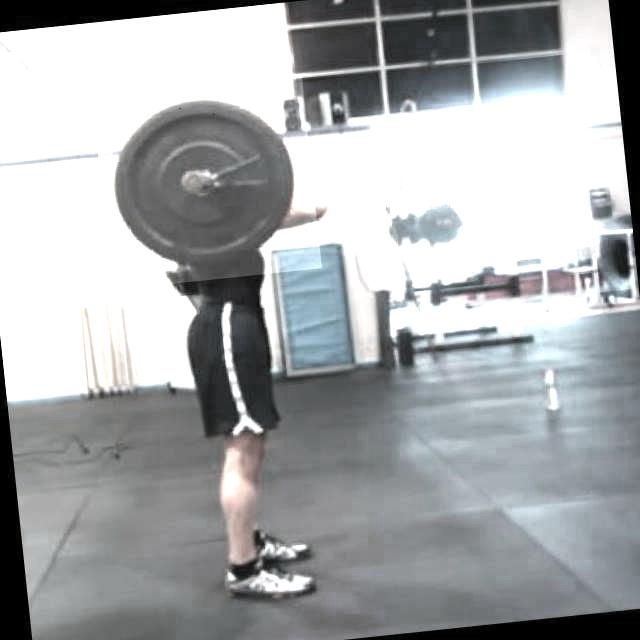barbell: (93, 75, 322, 291)
